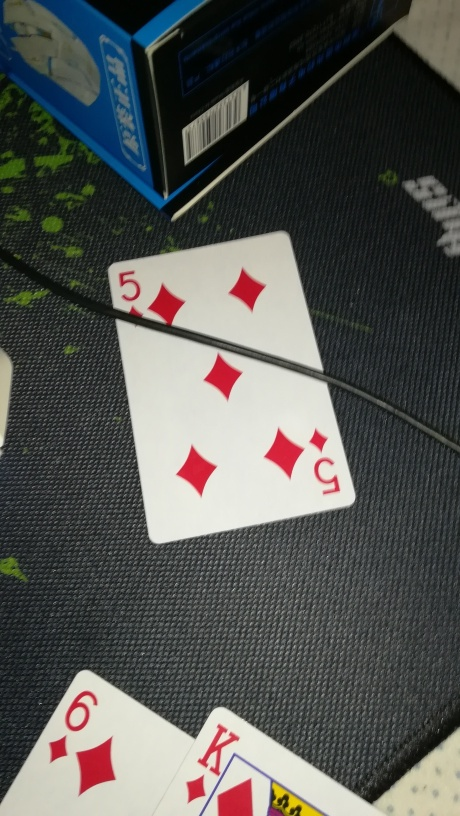fk 5: (104, 223, 360, 549)
